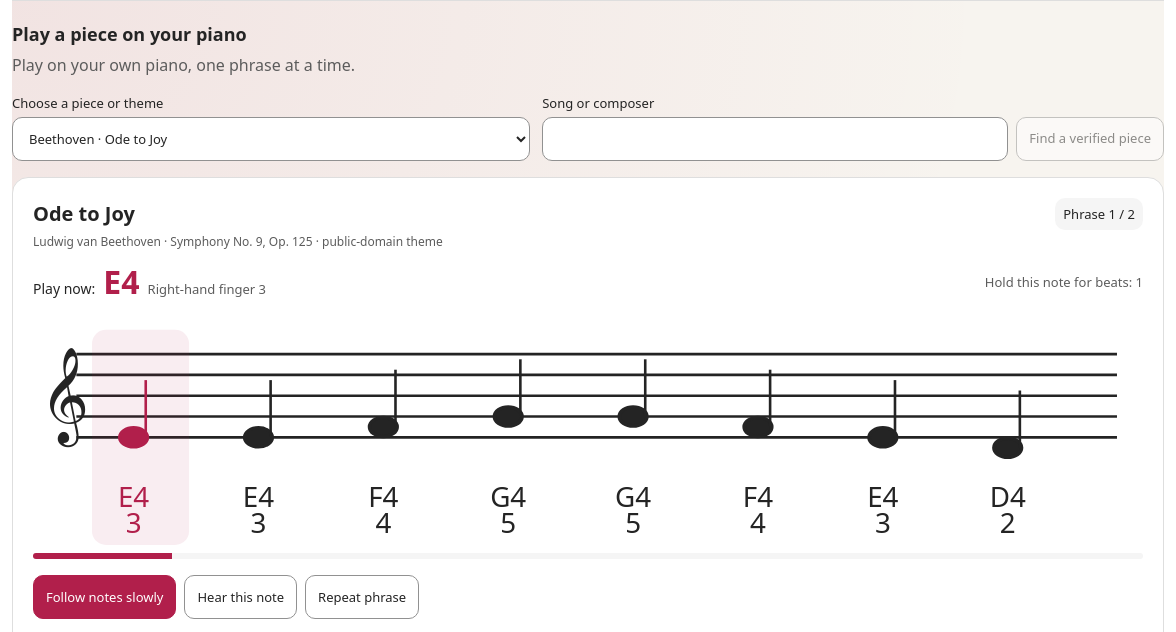
Scenario: real piano phrase lessons › keeps practice ready and advanced import disclosed in en
expect the element named "Playback" is shown: met, box [33, 575, 419, 619]
Select "My own / licensed notes" in the dropdown labelled "Choose a piece or theme": x=271, y=139 [12, 117, 530, 161]
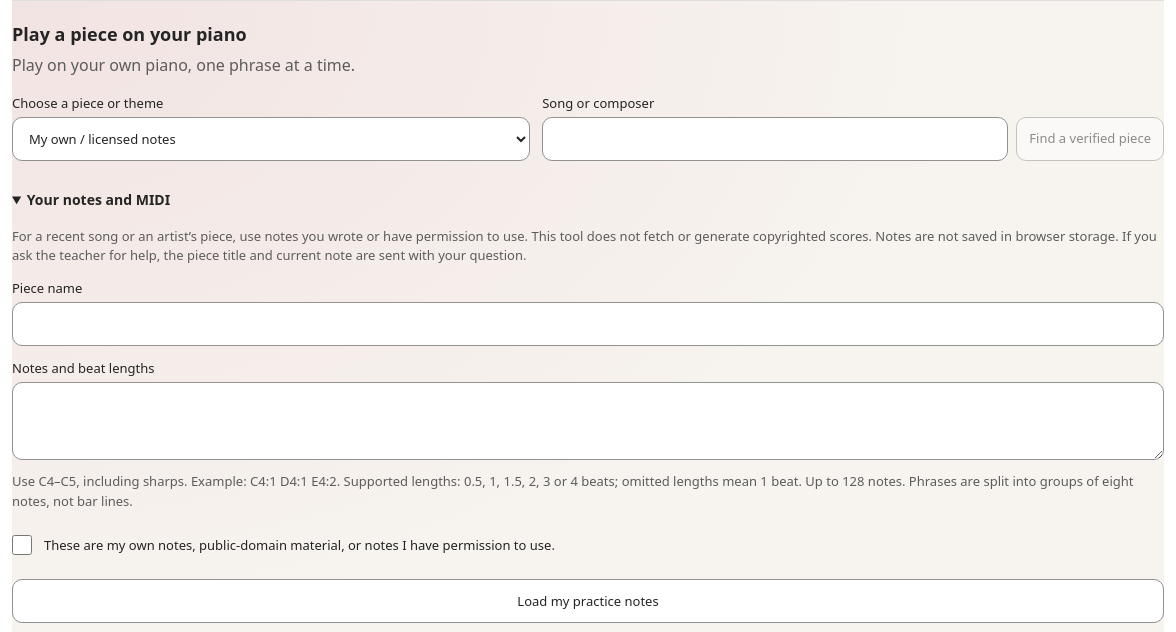
expect the checkbox is shown: met, box [12, 535, 32, 555]
